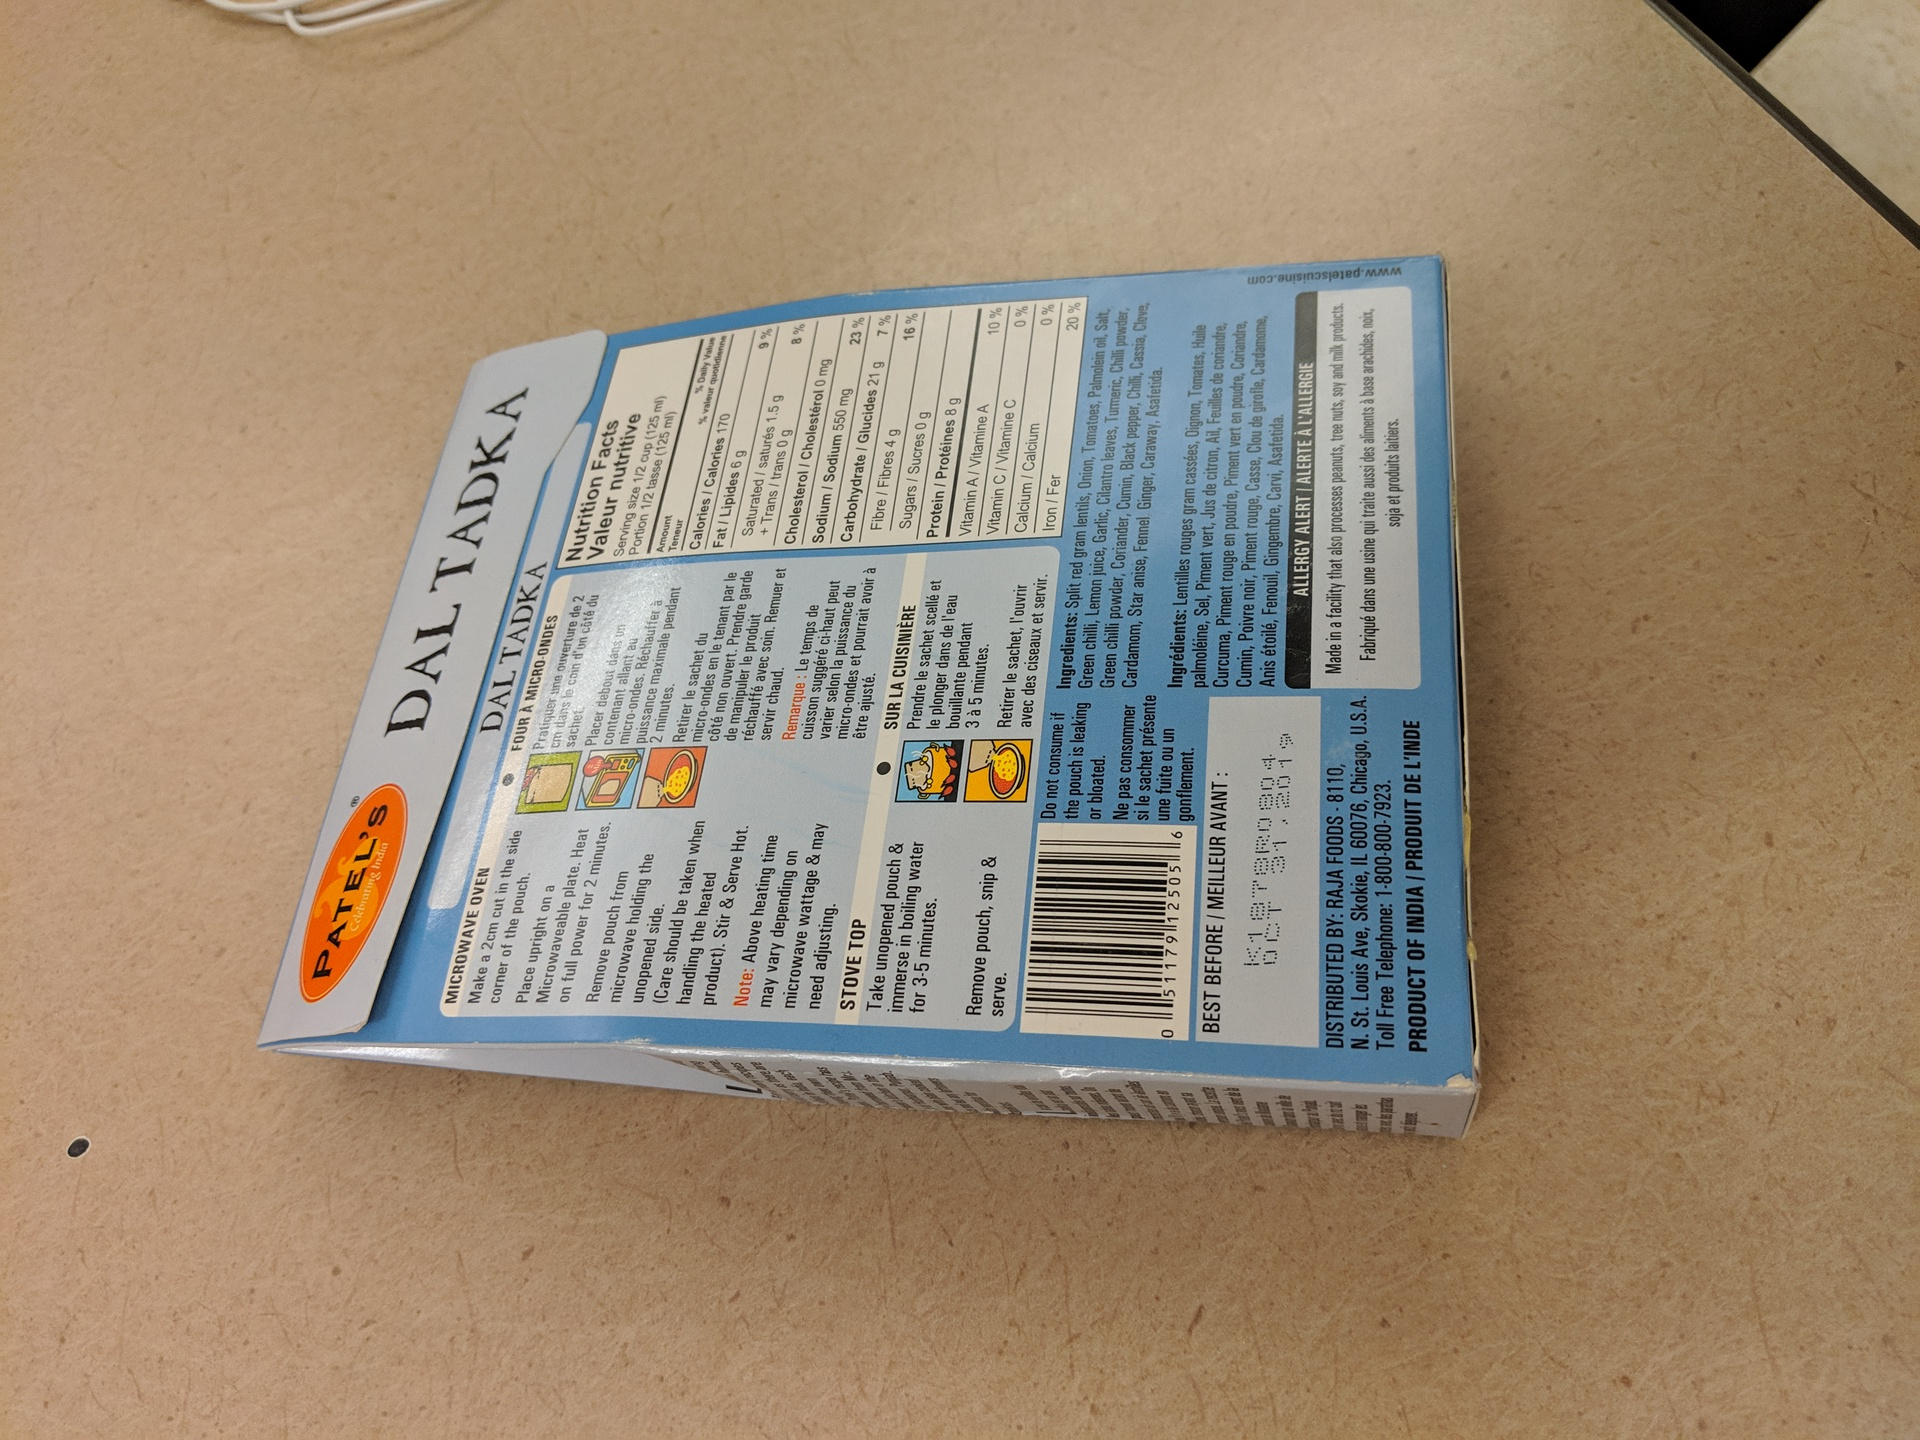patels_dal_tadka_lentil_curry: (262, 247, 1491, 1131)
